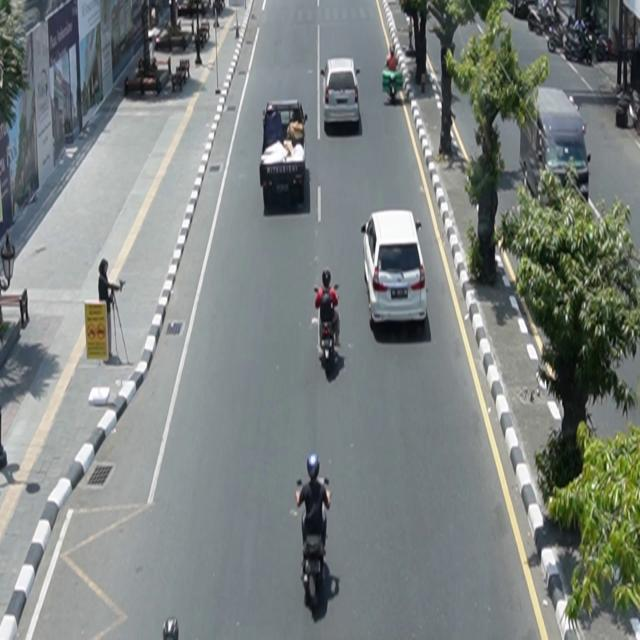car: (519, 86, 592, 207), (362, 209, 429, 330), (260, 99, 309, 207), (321, 58, 362, 128)
